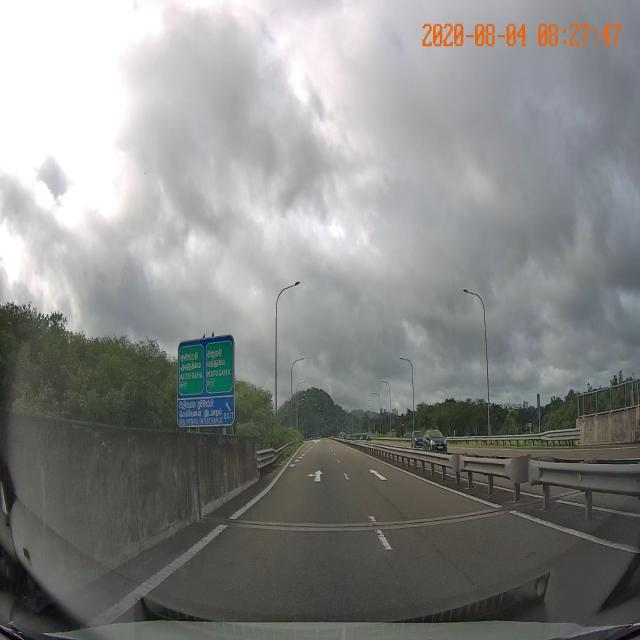forward_lft: (263, 463, 361, 502)
